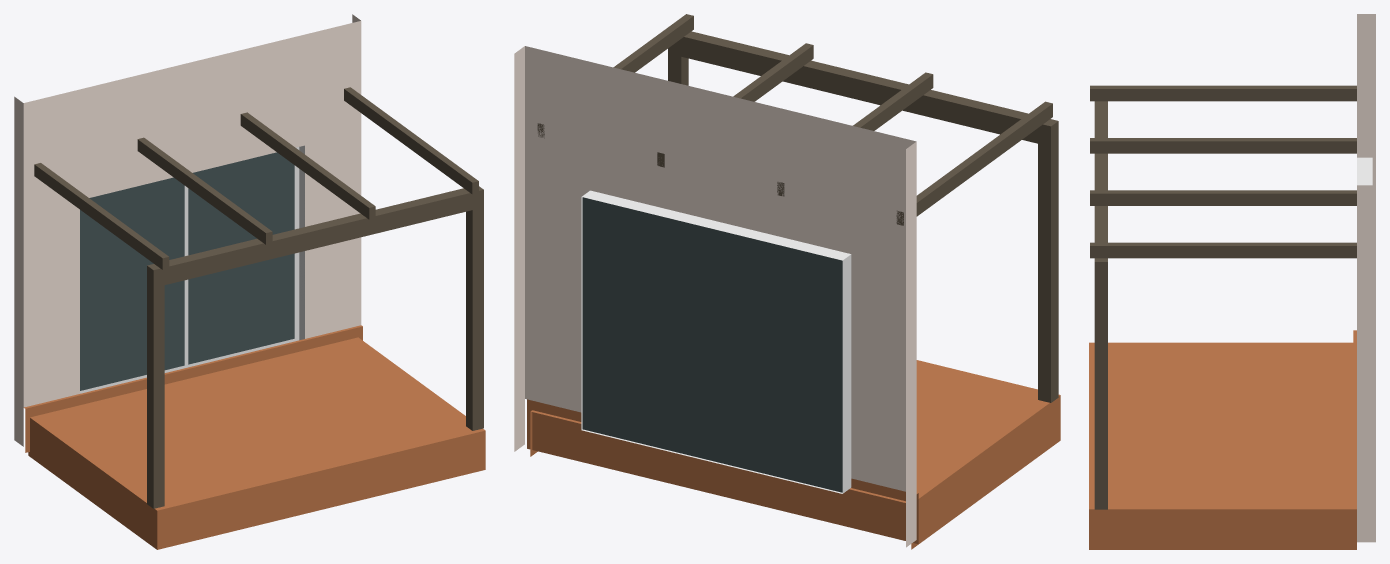
Rendered from base-stair3.fbx.
3 views of the same model, side by side, from view 1: azimuth 30°, elevation 25°; view 2: azimuth 150°, elevation 25°; view 3: azimuth 270°, elevation 25° (orthographic). The views are drawn at different scales.
Visible parts, largest first — view 1: a2000s2/200/base-stair; view 2: a2000s2/200/base-stair; view 3: a2000s2/200/base-stair.
Part boxes in pixels (x1,y1,x2,y2): a2000s2/200/base-stair: (14, 14, 485, 549); a2000s2/200/base-stair: (514, 14, 1060, 549); a2000s2/200/base-stair: (1089, 14, 1375, 549).
Bounding box in the file's own units: 3.6 × 3.6 × 2.55.
